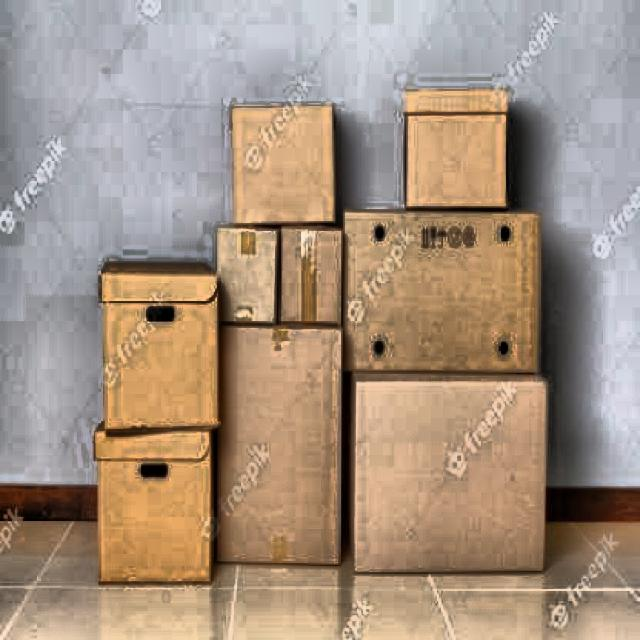Cardbox: (340, 358, 556, 572), (206, 314, 362, 592), (335, 195, 547, 379), (78, 415, 222, 600), (88, 253, 223, 435), (386, 72, 533, 216), (219, 111, 350, 252), (221, 212, 283, 340), (272, 229, 348, 333)
